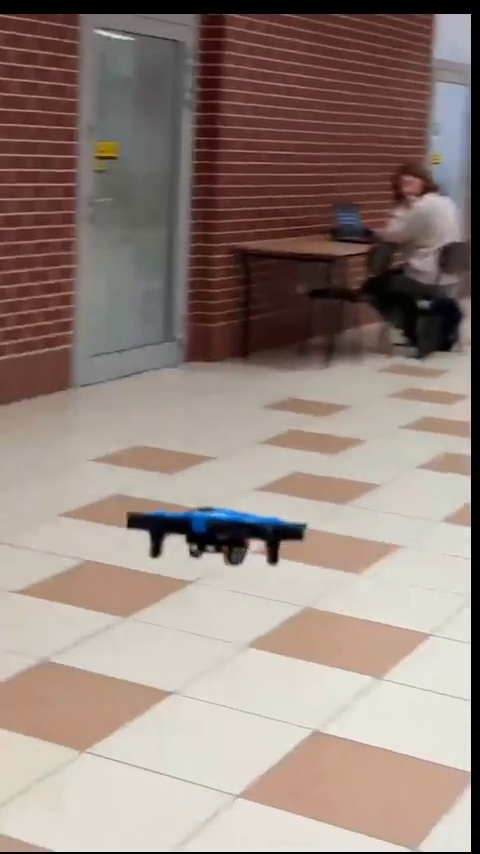drone: (126, 501, 310, 570)
no vest: (360, 164, 466, 337)
